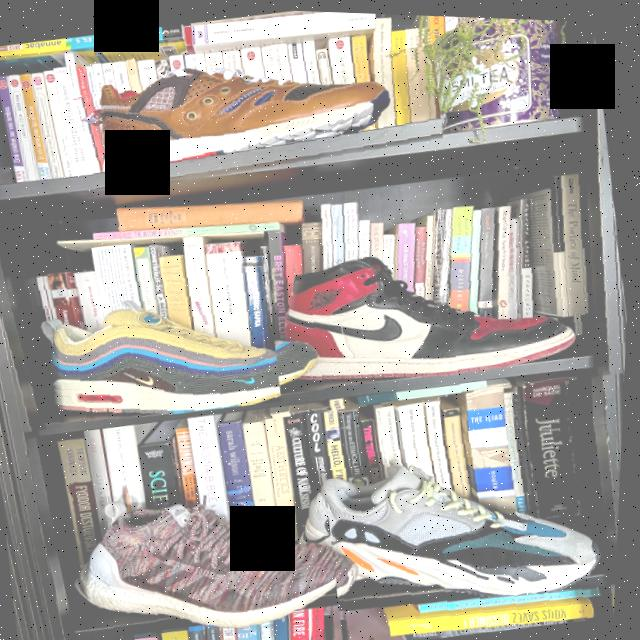shoe: (224, 154, 635, 429), (296, 399, 626, 640), (63, 32, 450, 209), (0, 241, 291, 441), (35, 480, 355, 640)
